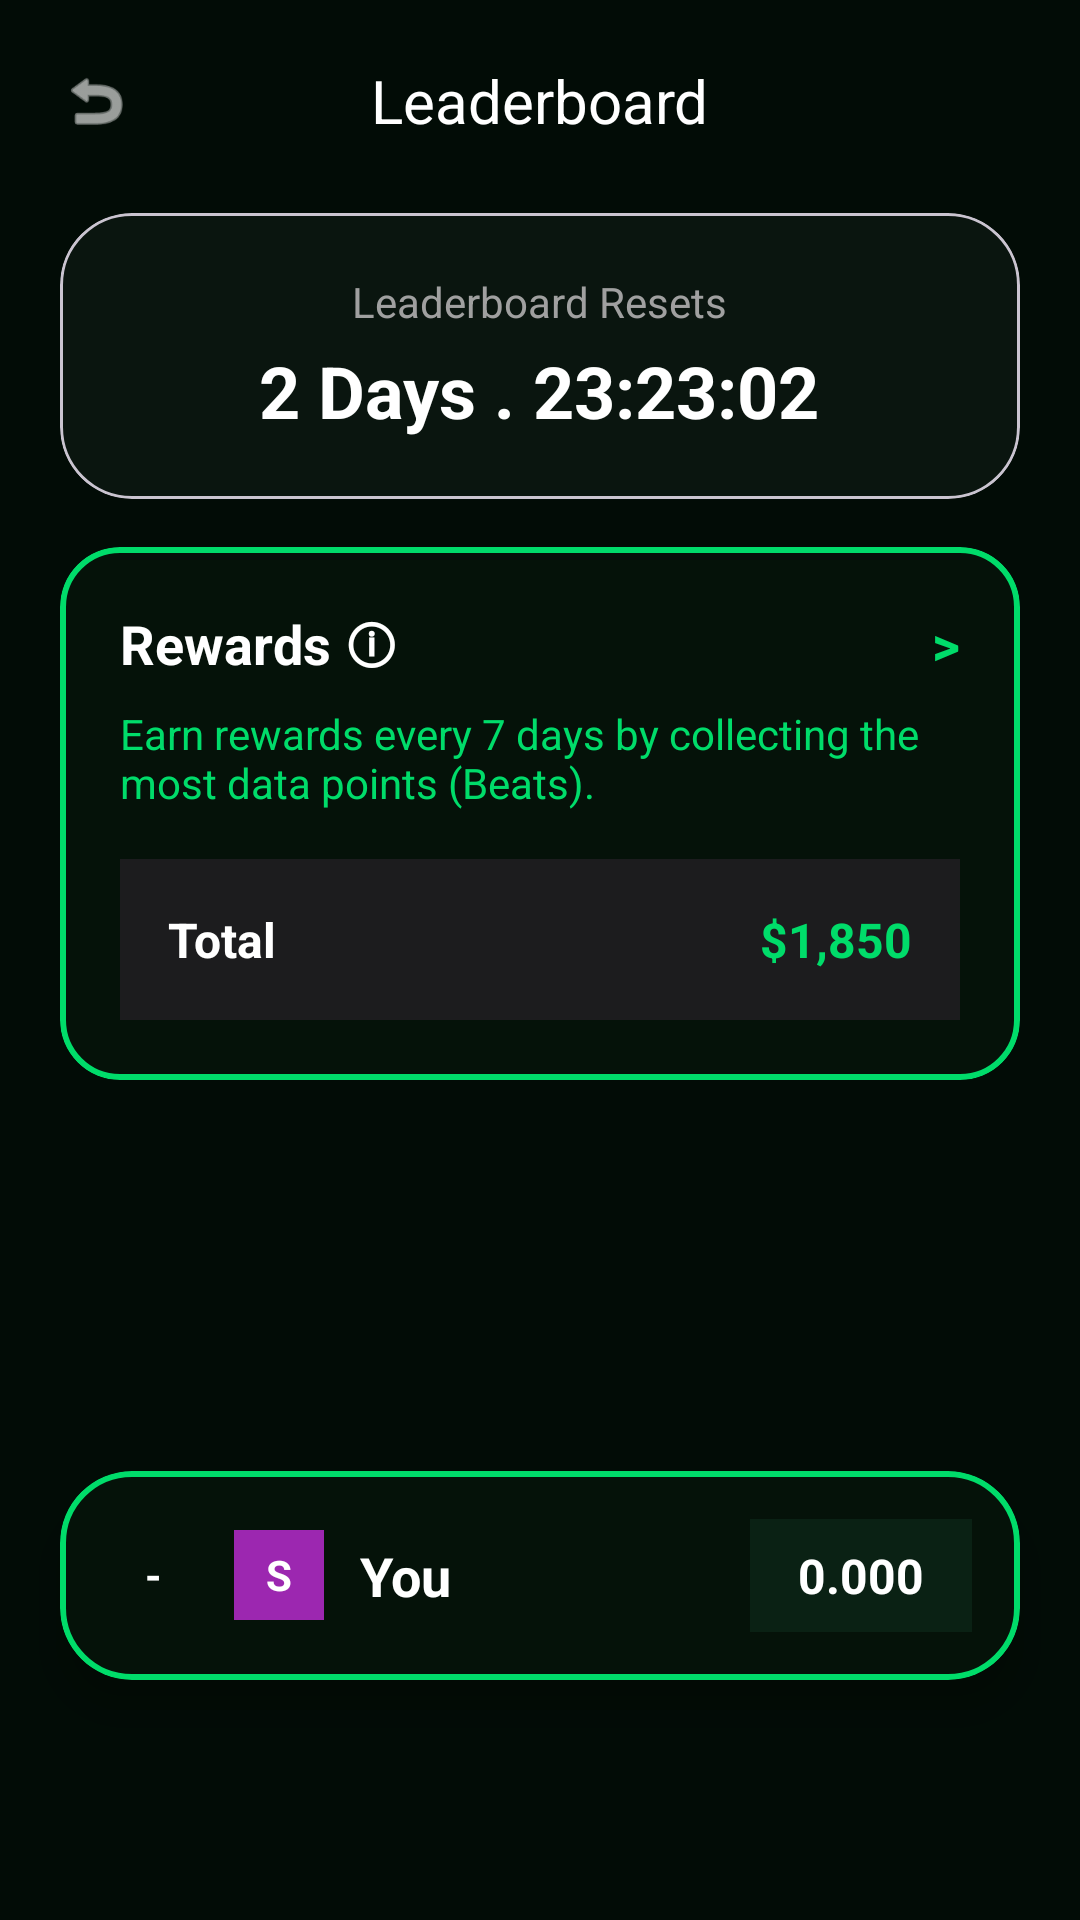

Named icons in this screenshot (1080*1920) and their bounding boxes, (x1, y1, x2, y2):
revert: (71, 78, 123, 125)
